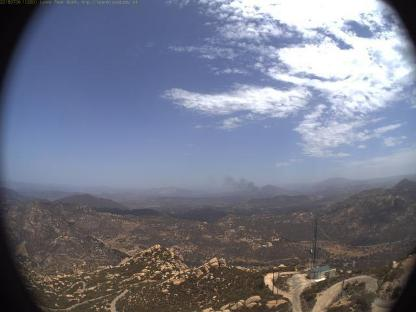smoke: (218, 171, 286, 205)
